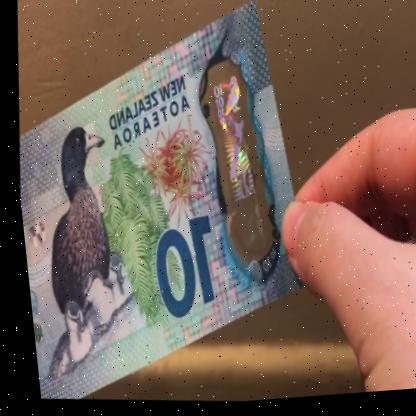10F: (195, 72, 266, 221)
